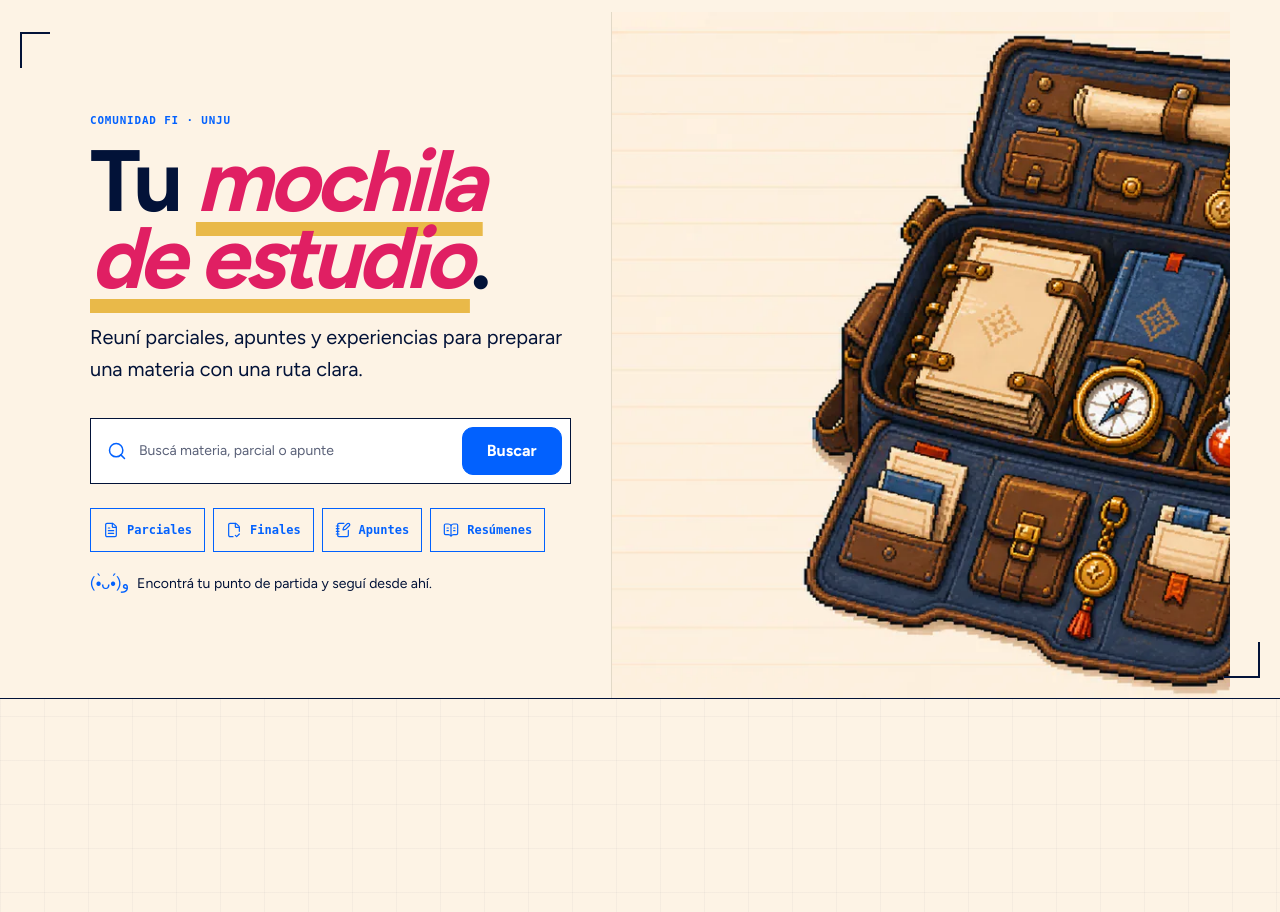
Test: PixelNotebookHome › keeps a no-match query visible for revision
Type "sin coincidencias" into the search field labelled "Buscá materia, parcial o apunte". click: x=294, y=451
box: [139,429,450,473]
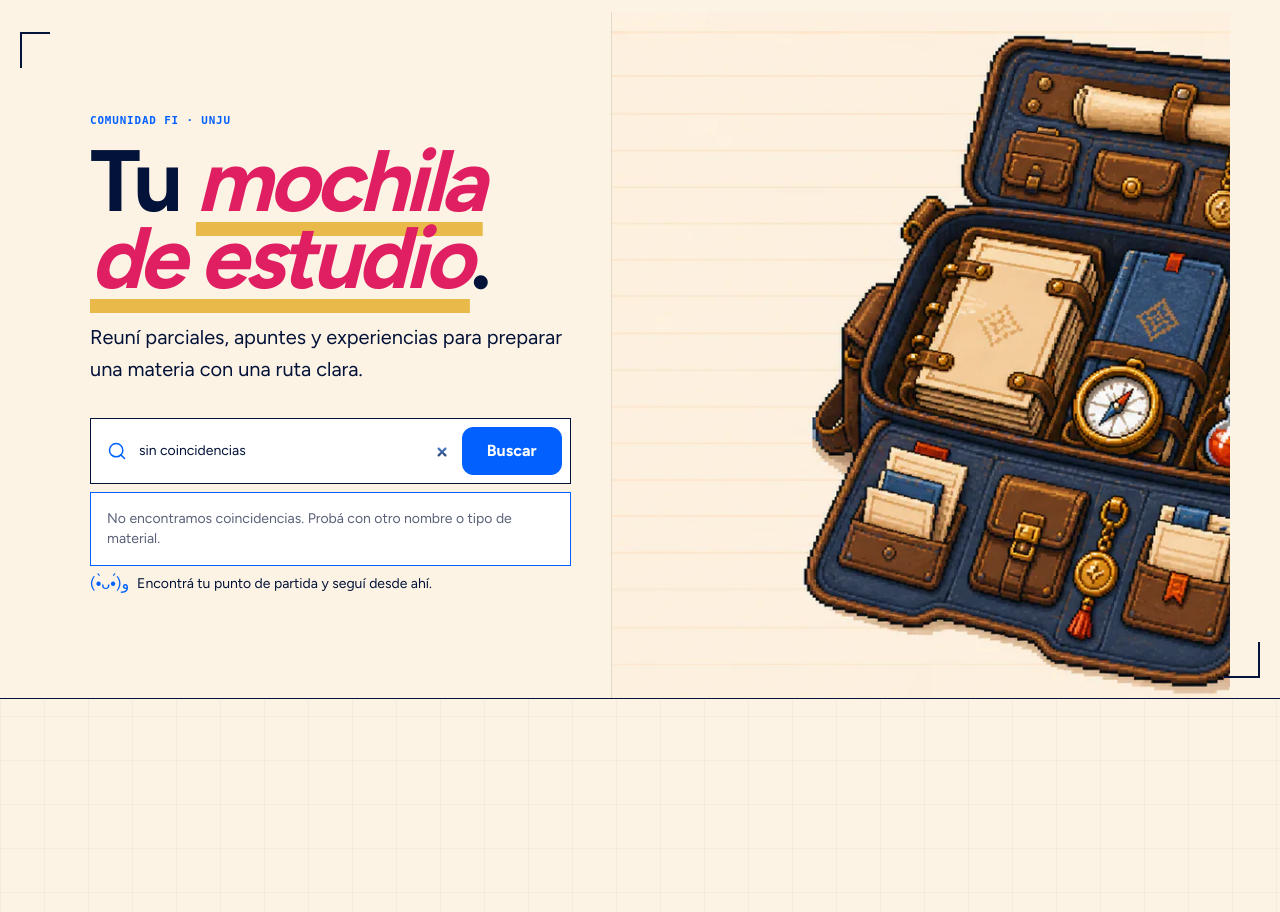
Result: the text "No encontramos coincidencias" is shown at [107,510,512,547]
